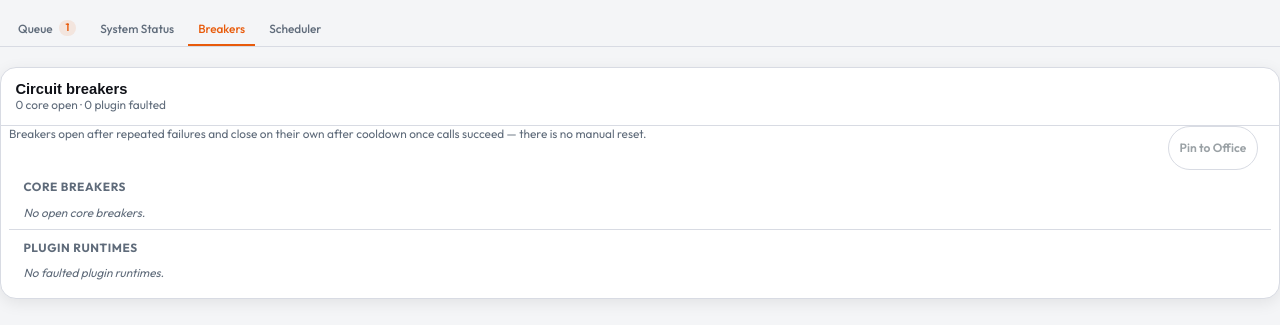
FocusPage breakers section › lands on Breakers when arriving in the breakers room, with Queue one tap away
Click the tab with class "mc-sub-tab" showing "Queue 1" at point(47, 29), box [8,12,86,46]
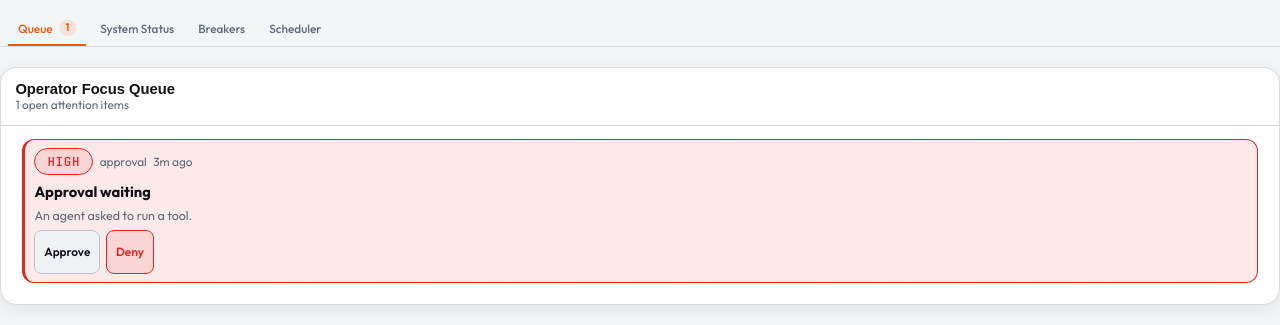
Result: the text "Operator Focus Queue" is shown at [15,81,175,97]
